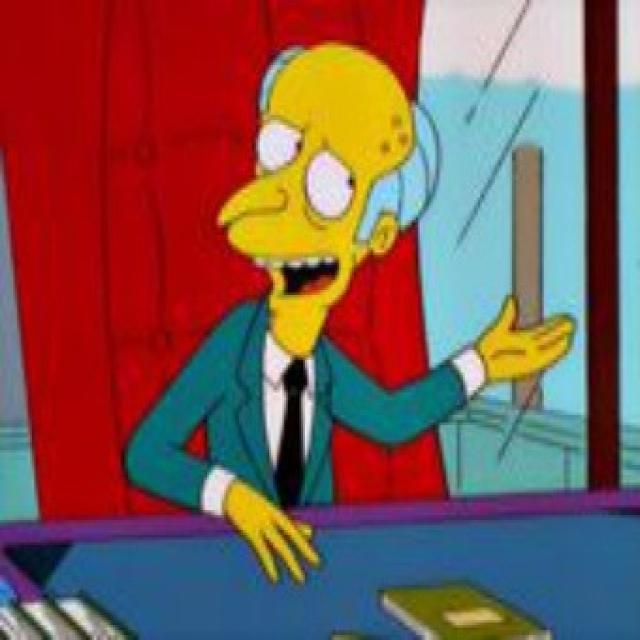Charles Montgomery Burns: (213, 41, 442, 339)
